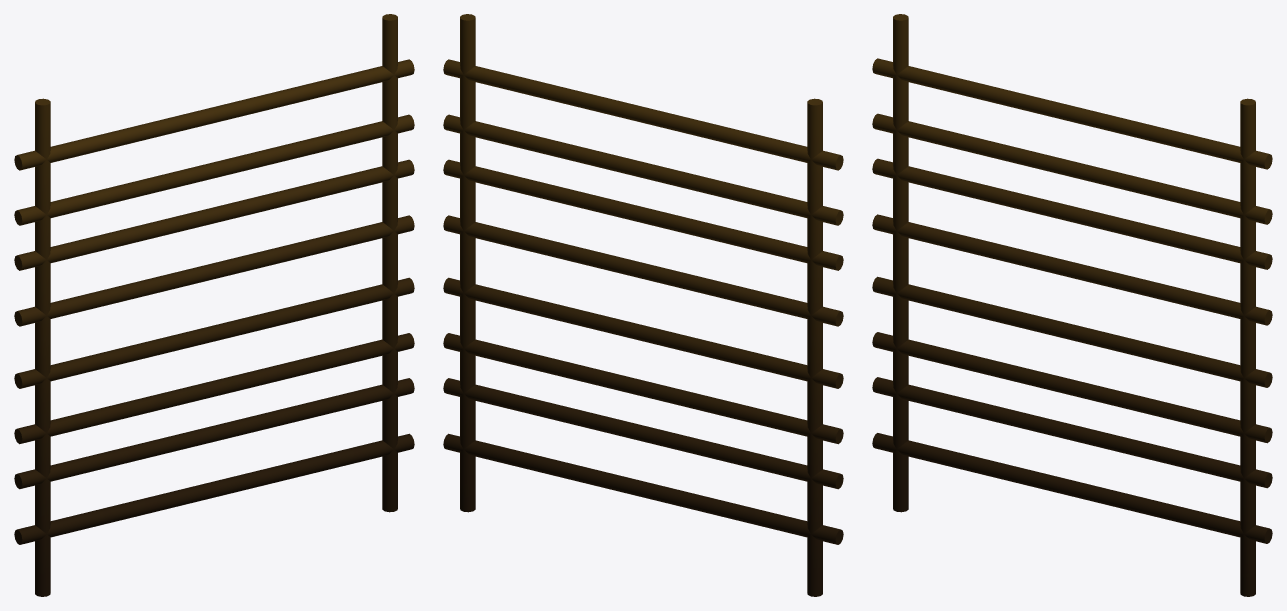
The model's file is PlantPot_Rack.fbx.
The picture shows the model from 3 angles, left to right: view 1: azimuth 30°, elevation 25°; view 2: azimuth 150°, elevation 25°; view 3: azimuth 330°, elevation 25°; orthographic projection.
Parts seen in each view (by area): view 1: PlantPot_Rack; view 2: PlantPot_Rack; view 3: PlantPot_Rack.
Boxes of the visible parts, bbox=[...] form: PlantPot_Rack: bbox=[14, 14, 414, 596]; PlantPot_Rack: bbox=[443, 14, 843, 596]; PlantPot_Rack: bbox=[872, 14, 1272, 596].
Size of the model in its own units: 89.5 by 107 by 3.17.
